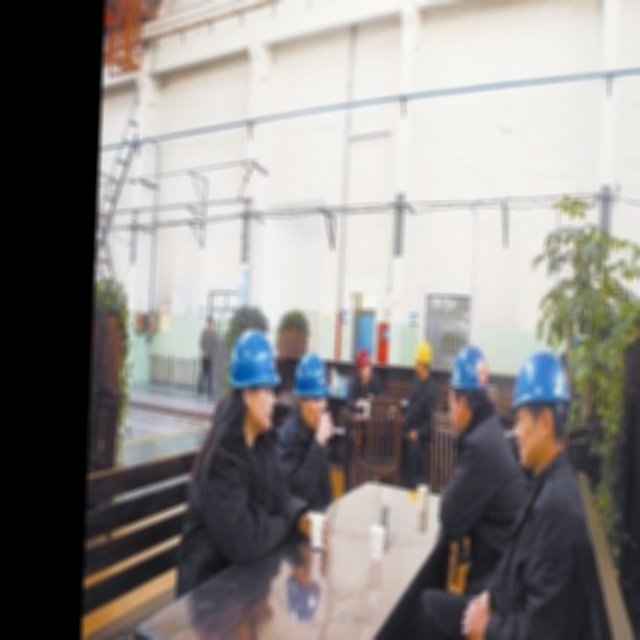Con_Casco: (507, 349, 574, 465), (229, 327, 276, 427)
